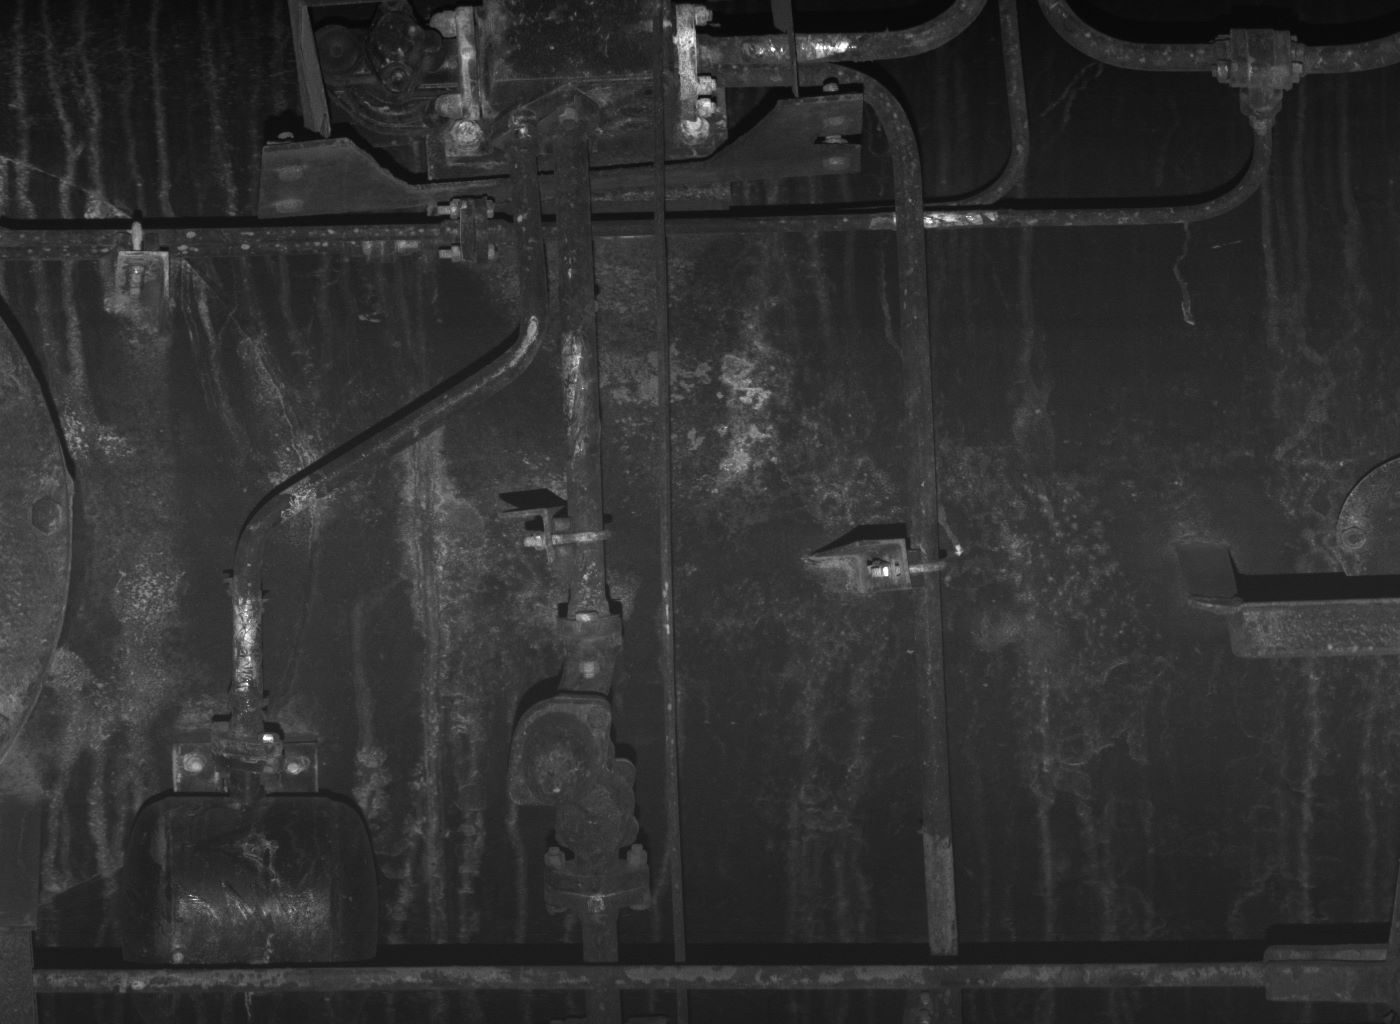normal: (557, 759, 641, 849)
